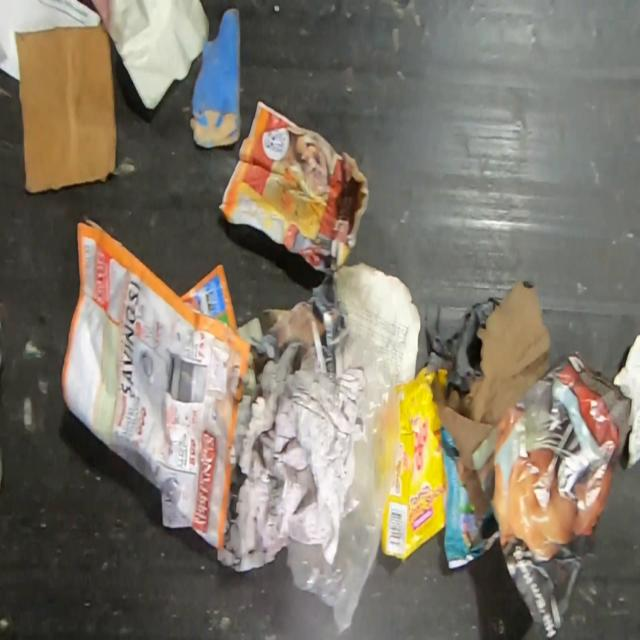cardboard: (13, 25, 117, 193), (436, 278, 550, 425), (380, 365, 450, 561), (190, 8, 242, 149), (436, 406, 494, 521)
soft_plastic: (284, 334, 400, 636), (424, 297, 498, 400)
